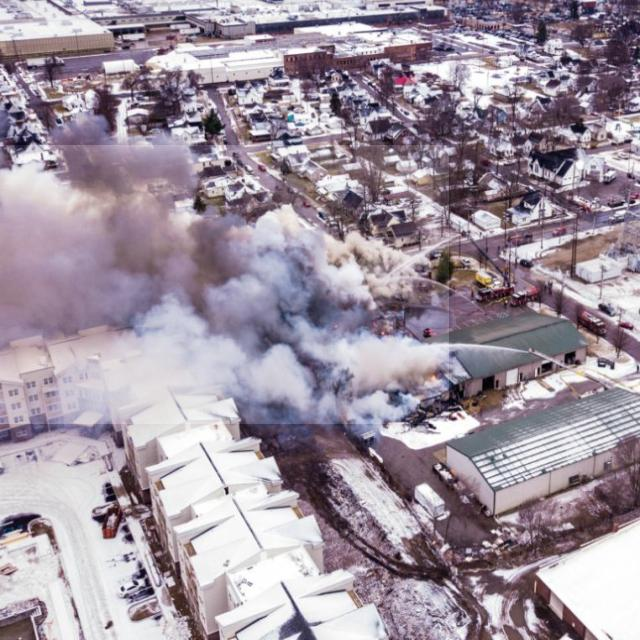Smoke: (0, 145, 449, 424)
